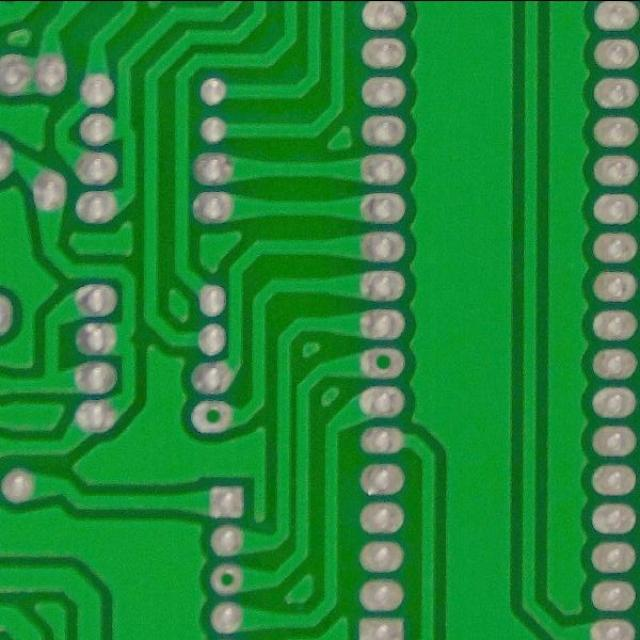Missing_Hole: (186, 394, 239, 438), (356, 342, 411, 383), (205, 559, 248, 599)
